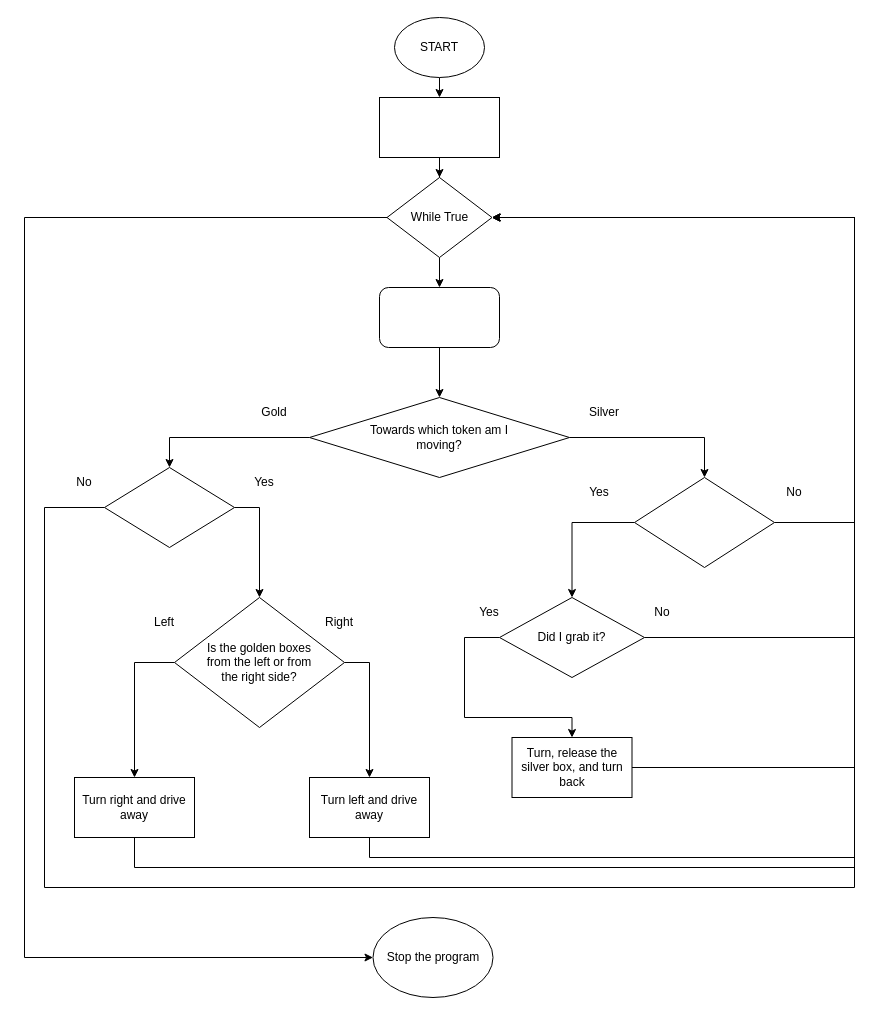
The diagram is 880 pixels wide and 1015 high, and some of its shapes have lost their labels. The centre of each missing label's shape, as x and y in pixels:
"Am I close to the golden box?" goes at (169,507).
"Is the silver close to me to grab it?" goes at (704,522).
"Search for the tokens (gold or silver) and update the search" goes at (439,317).
"Set the initial values to control the movement" goes at (439,127).
